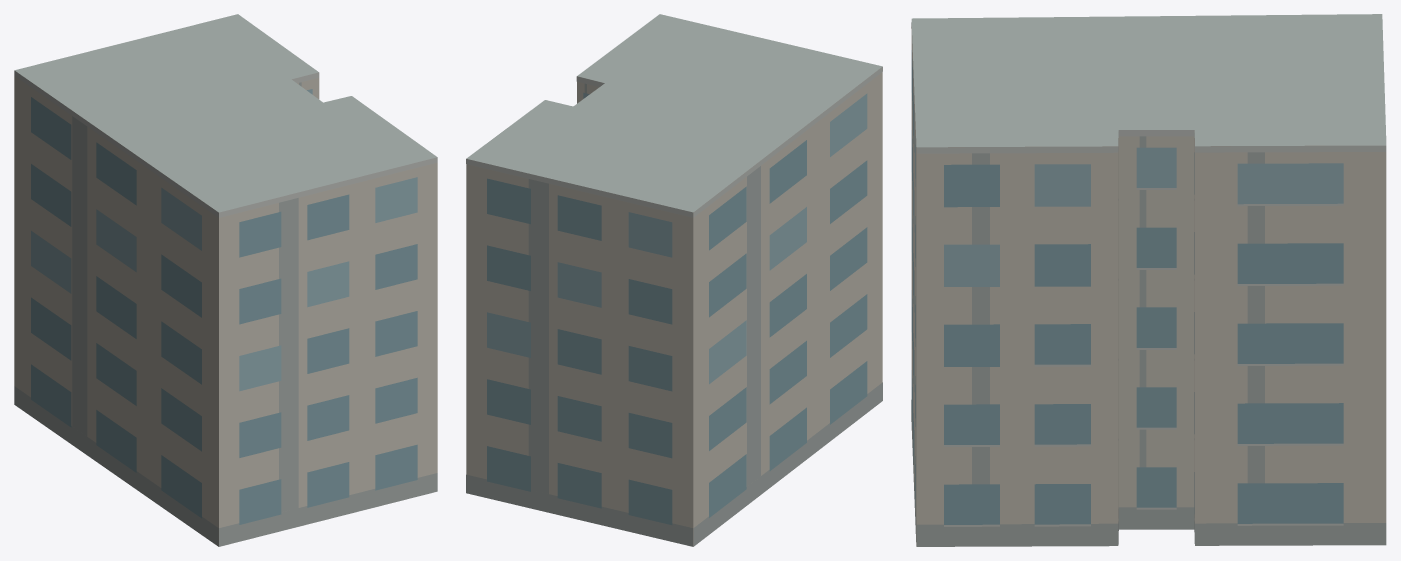
The model's file is survey-upis-32816406.glb.
The picture shows the model from 3 angles, left to right: view 1: azimuth 30°, elevation 25°; view 2: azimuth 150°, elevation 25°; view 3: azimuth 270°, elevation 25°; orthographic projection. The views are drawn at different scales.
Visible parts, largest first — view 1: survey-upis-32816406.tmp; view 2: survey-upis-32816406.tmp; view 3: survey-upis-32816406.tmp.
Boxes of the visible parts, x1,y1,x2,y2 form: survey-upis-32816406.tmp: (14, 14, 437, 546); survey-upis-32816406.tmp: (466, 14, 882, 546); survey-upis-32816406.tmp: (911, 14, 1386, 546).
Bounding box in the file's own units: 10.88 × 15.2 × 16.38.
